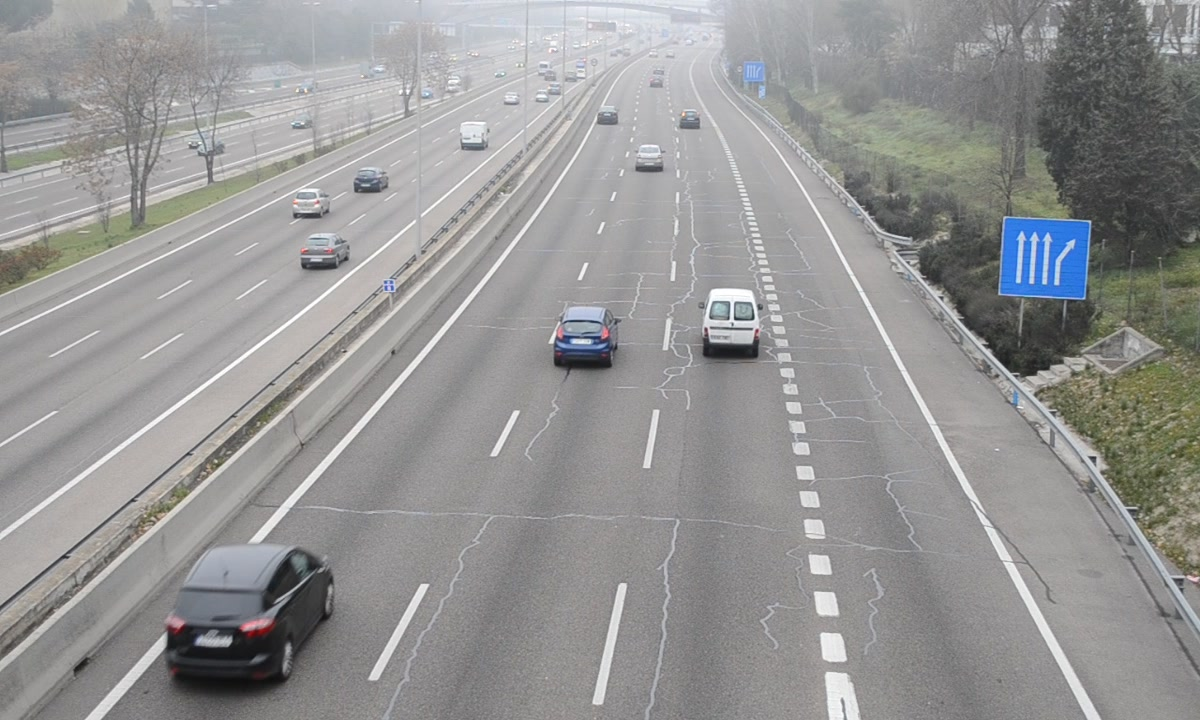car: (166, 546, 331, 673), (555, 308, 616, 365), (635, 145, 664, 173), (597, 103, 620, 126), (678, 109, 702, 131)
van: (703, 289, 761, 356)
